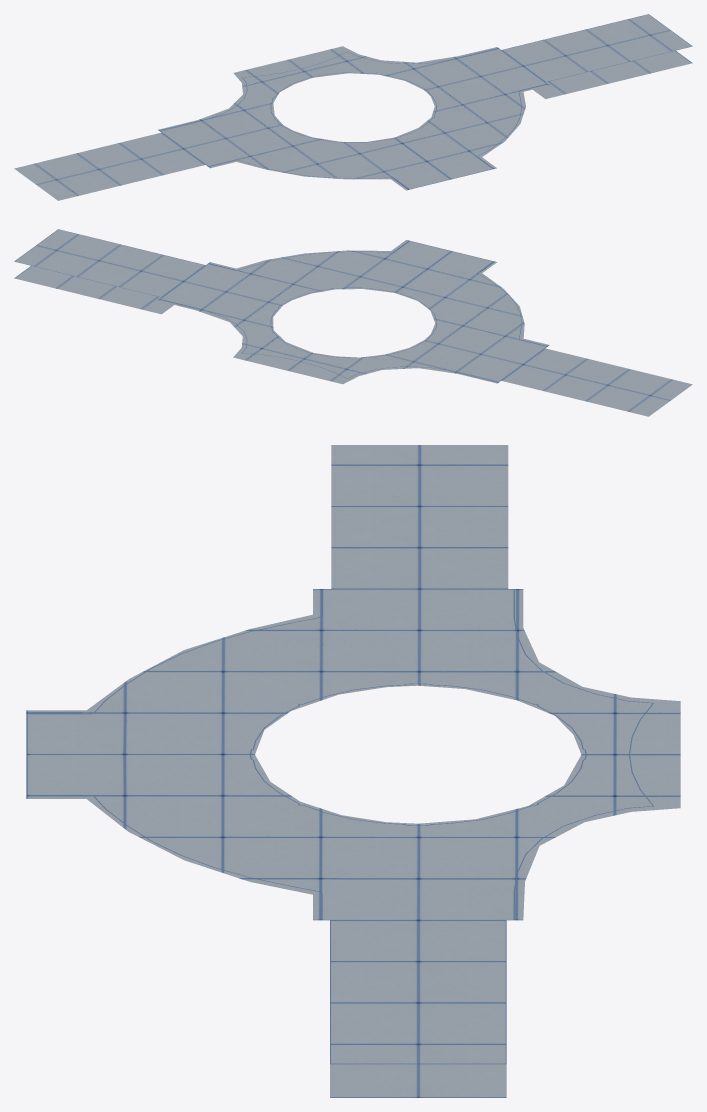
Rendered from mesh_1002_jxl_004.FBX.
3 views of the same model, one above another, from view 1: azimuth 30°, elevation 25°; view 2: azimuth 150°, elevation 25°; view 3: azimuth 270°, elevation 25° (orthographic). The views are drawn at different scales.
Parts seen in each view (by area): view 1: mesh_1002_jxl_004; view 2: mesh_1002_jxl_004; view 3: mesh_1002_jxl_004.
Boxes of the visible parts, <box> form: mesh_1002_jxl_004: <box>14,14,692,200</box>; mesh_1002_jxl_004: <box>14,229,692,416</box>; mesh_1002_jxl_004: <box>26,445,680,1097</box>.
Size of the model in its own units: 7605 by 192 by 3397.
Materials: 1 (1 with a texture image).
